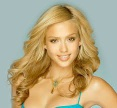female: (41, 13, 85, 78)
